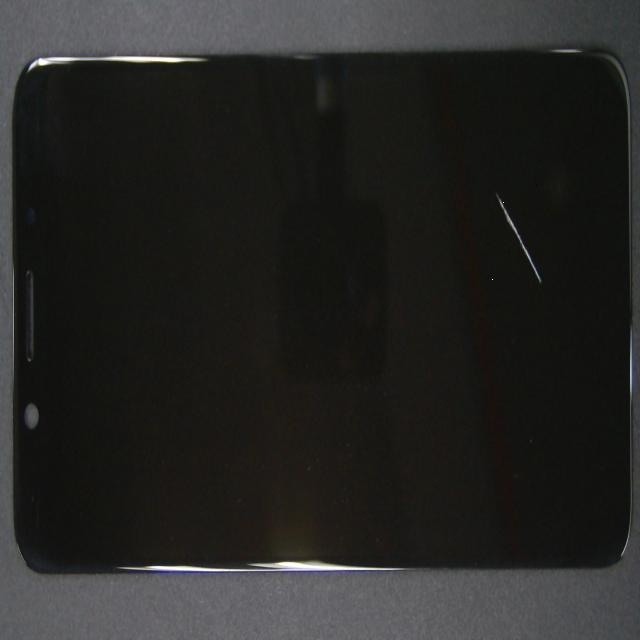scratch: (272, 149, 640, 447)
